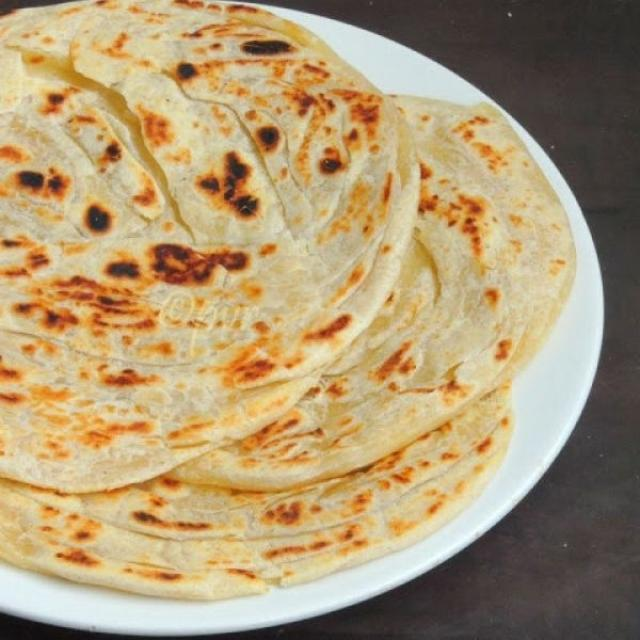Paratha: (8, 9, 574, 603)
